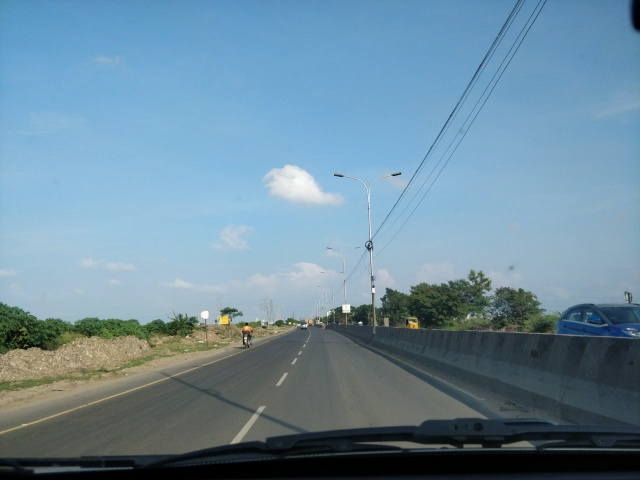auto: (403, 316, 420, 335)
car: (554, 303, 639, 373), (298, 320, 310, 331)
motorbike: (236, 320, 255, 351)
